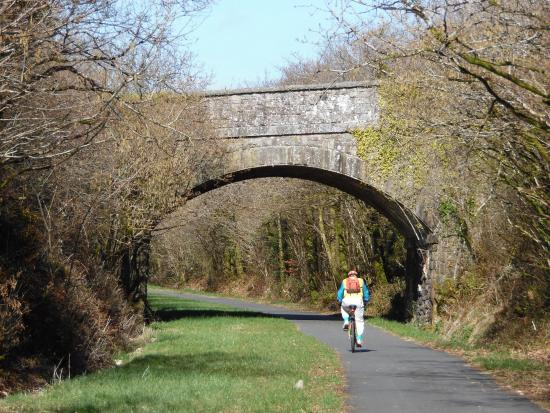bridge: (112, 79, 456, 248)
